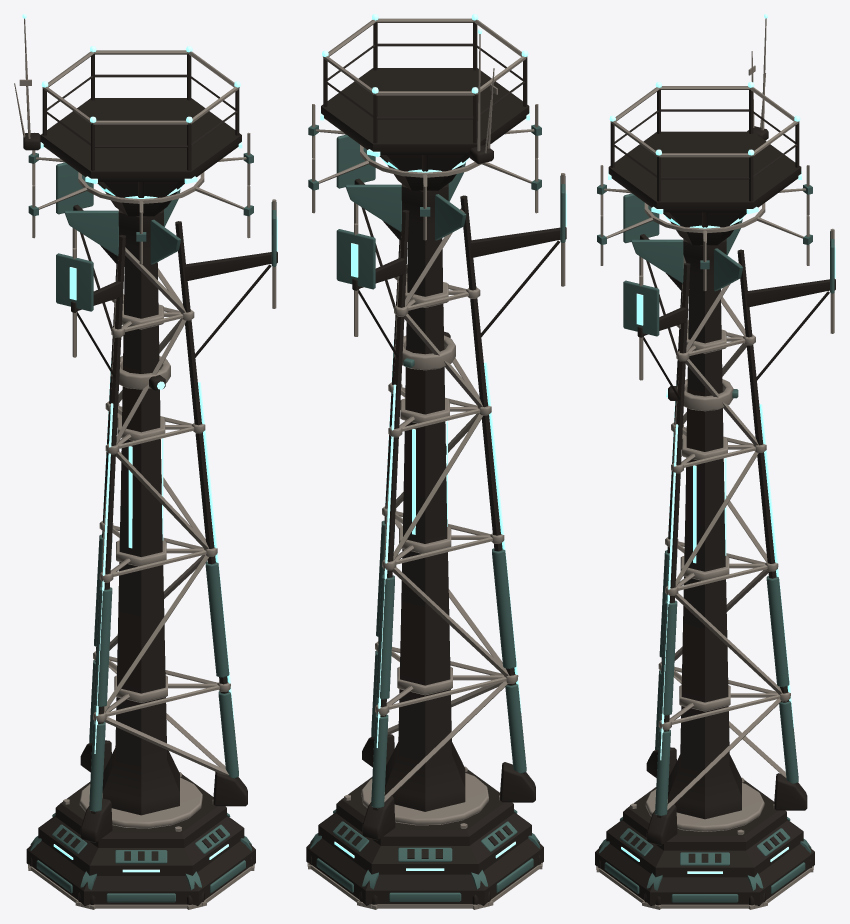
Rendered from tower_spire.glb.
3 renders of one model, left to right at view 1: azimuth 30°, elevation 25°; view 2: azimuth 150°, elevation 25°; view 3: azimuth 270°, elevation 25°, orthographic. The views are drawn at different scales.
Visible parts, largest first — view 1: base, lvl2, lvl3, turret; view 2: base, lvl2, lvl3, turret; view 3: base, lvl2, lvl3, turret.
Part boxes in pixels (<box>): base: <box>14,14,255,909</box>; lvl2: <box>28,46,253,775</box>; lvl3: <box>56,162,277,753</box>; turret: <box>111,356,170,390</box>; base: <box>306,18,543,909</box>; lvl2: <box>308,14,541,802</box>; lvl3: <box>336,134,566,747</box>; turret: <box>394,331,455,370</box>; base: <box>595,14,814,909</box>; lvl2: <box>597,82,812,810</box>; lvl3: <box>623,193,835,760</box>; turret: <box>666,379,738,411</box>.
Size of the model in its own units: 2.05 by 7.55 by 2.02.
